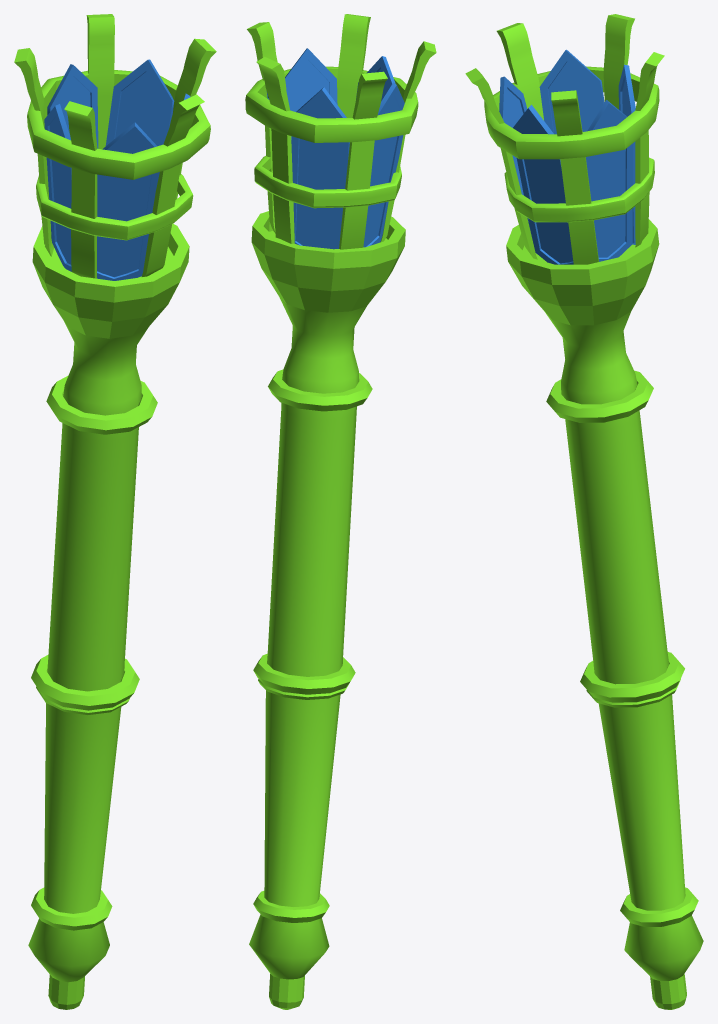
3 renders of one model, left to right at view 1: azimuth 30°, elevation 25°; view 2: azimuth 150°, elevation 25°; view 3: azimuth 270°, elevation 25°, orthographic. The views are drawn at different scales.
Parts seen in each view (by area): view 1: 횃불_low; view 2: 횃불_low; view 3: 횃불_low.
Boxes of the visible parts, bbox=[...] form: 횃불_low: bbox=[14, 14, 216, 1009]; 횃불_low: bbox=[245, 14, 436, 1009]; 횃불_low: bbox=[465, 14, 703, 1009].
Bounding box in the file's own units: 11.11 × 60.76 × 13.62.
